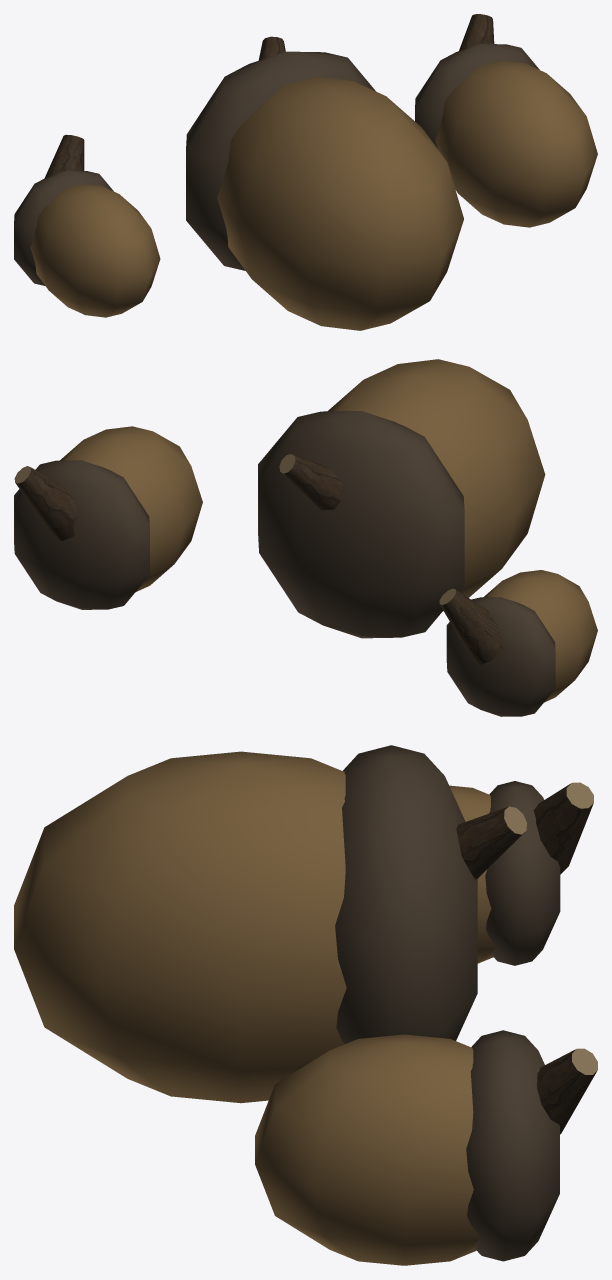
The picture shows the model from 3 angles, top to bottom: view 1: azimuth 30°, elevation 25°; view 2: azimuth 150°, elevation 25°; view 3: azimuth 270°, elevation 25°; orthographic projection. The views are drawn at different scales.
Parts seen in each view (by area): view 1: Acorn nut; view 2: Acorn nut; view 3: Acorn nut.
Boxes of the visible parts, bbox=[...] form: Acorn nut: bbox=[14, 14, 597, 330]; Acorn nut: bbox=[14, 359, 597, 716]; Acorn nut: bbox=[14, 745, 597, 1265].
Size of the model in its own units: 1.43 by 0.5814 by 0.9296.
4 materials, 1 textured.
